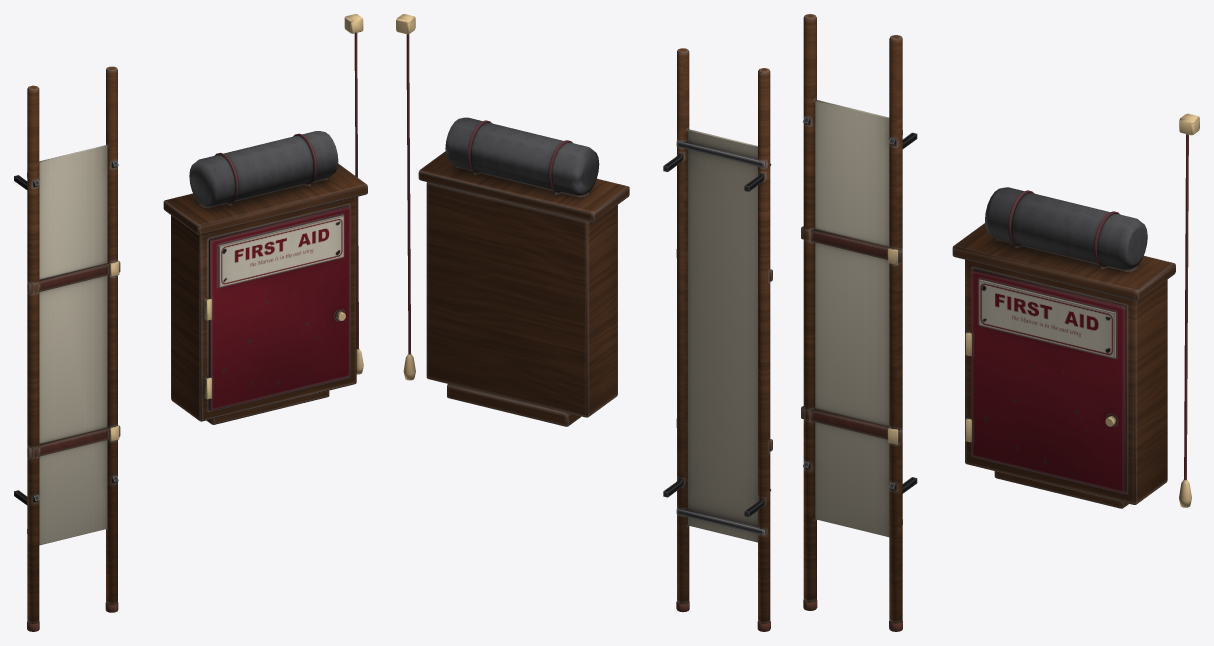
The model's file is FirstAidStation.fbx.
3 views of the same model, side by side, from view 1: azimuth 30°, elevation 25°; view 2: azimuth 150°, elevation 25°; view 3: azimuth 330°, elevation 25° (orthographic). The views are drawn at different scales.
Parts seen in each view (by area): view 1: FirstAidStation; view 2: FirstAidStation; view 3: FirstAidStation.
Boxes of the visible parts, x1=… form: FirstAidStation: x1=14, y1=14, x2=367, y2=631; FirstAidStation: x1=396, y1=14, x2=772, y2=631; FirstAidStation: x1=801, y1=14, x2=1199, y2=631.
Size of the model in its own units: 530 by 791 by 95.
